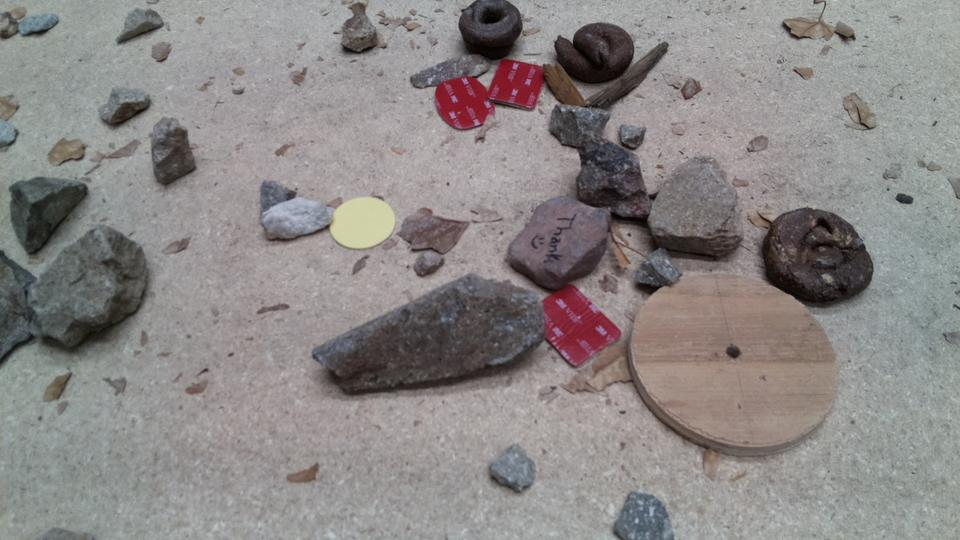poop: (761, 205, 877, 307), (551, 20, 637, 87), (456, 1, 524, 61)
